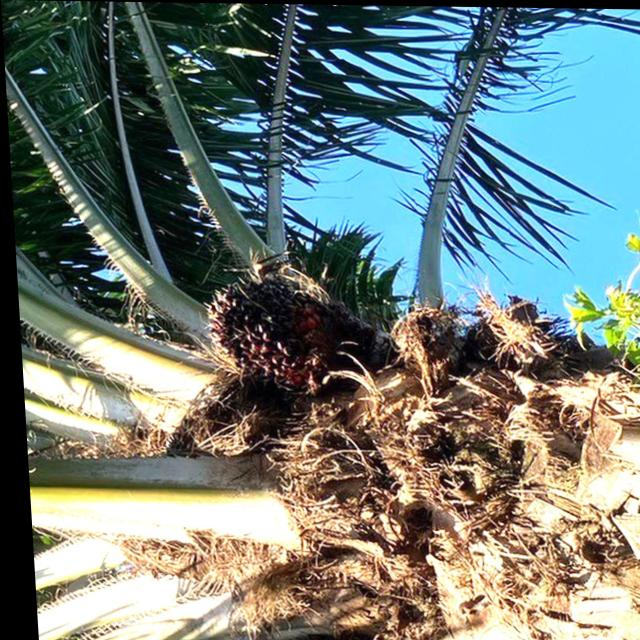ripe: (198, 274, 333, 388)
